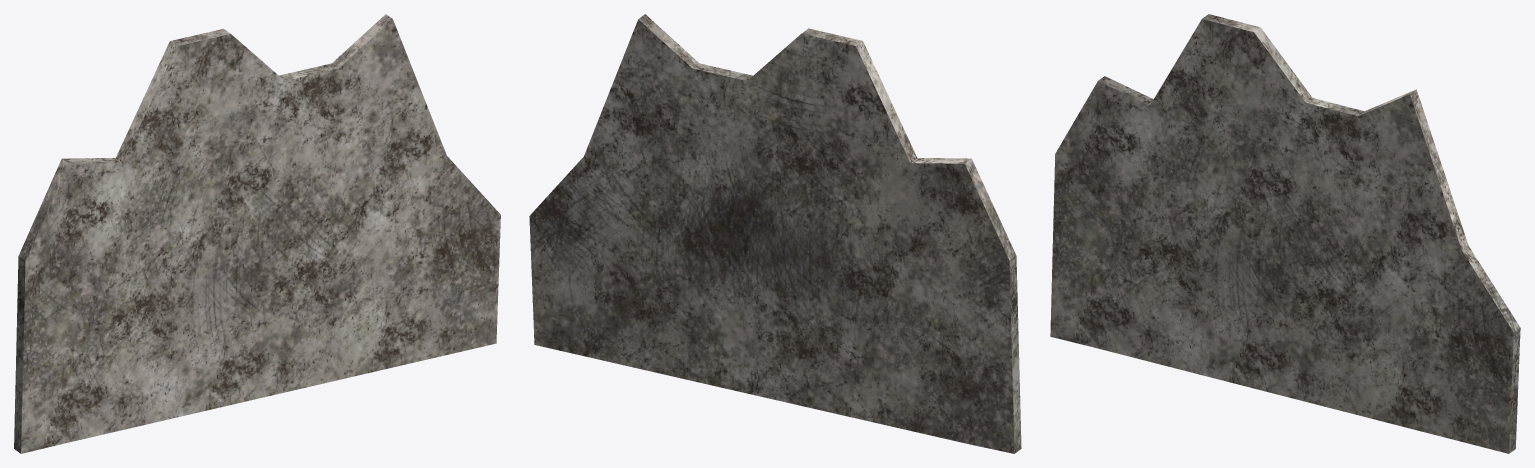
The model's file is SueloEdificio2.obj.
3 views of the same model, side by side, from view 1: azimuth 30°, elevation 25°; view 2: azimuth 150°, elevation 25°; view 3: azimuth 330°, elevation 25° (orthographic). The views are drawn at different scales.
Parts seen in each view (by area): view 1: Object018; view 2: Object018; view 3: Object018.
Part boxes in pixels (<box>): Object018: <box>14,14,500,453</box>; Object018: <box>529,14,1021,453</box>; Object018: <box>1050,14,1520,453</box>.
Bounding box in the file's own units: 111 × 83.06 × 3.42.
Materials: 1 (1 with a texture image).
